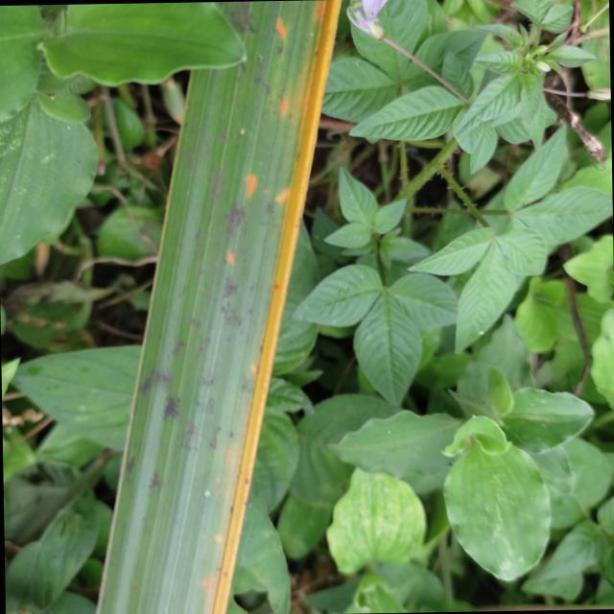Megnesium: (98, 0, 339, 614)
